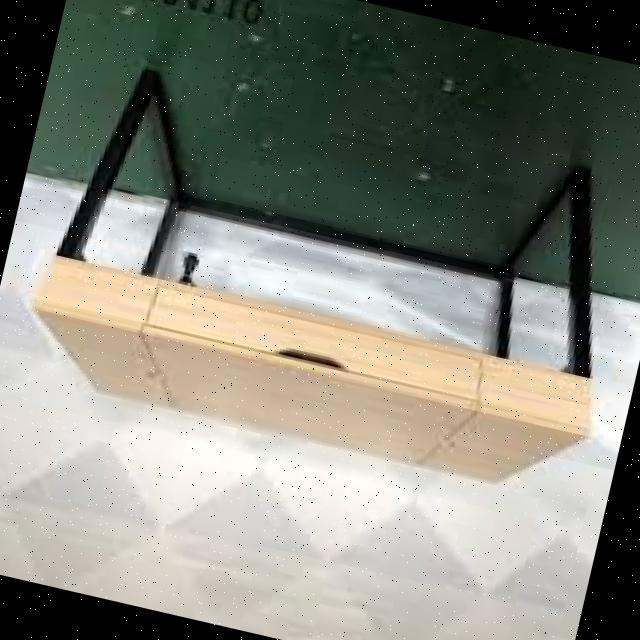Table: (4, 24, 640, 510)
